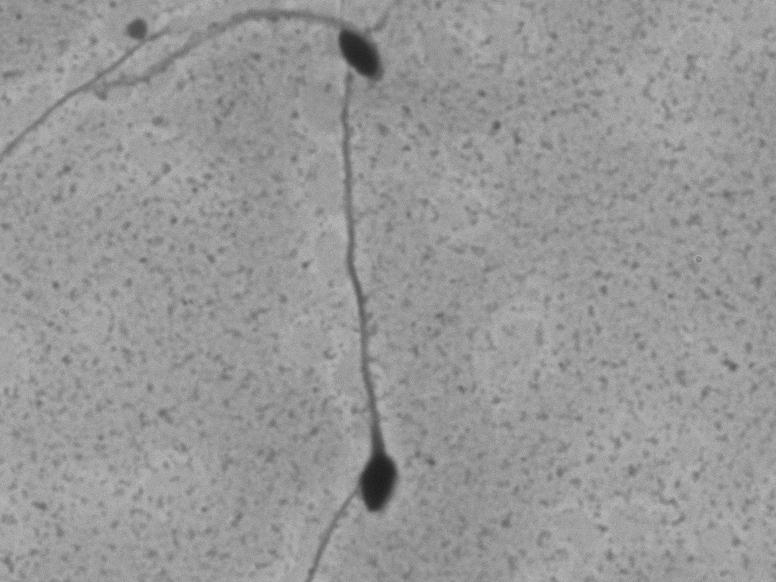Abnormal: (333, 63, 408, 526)
